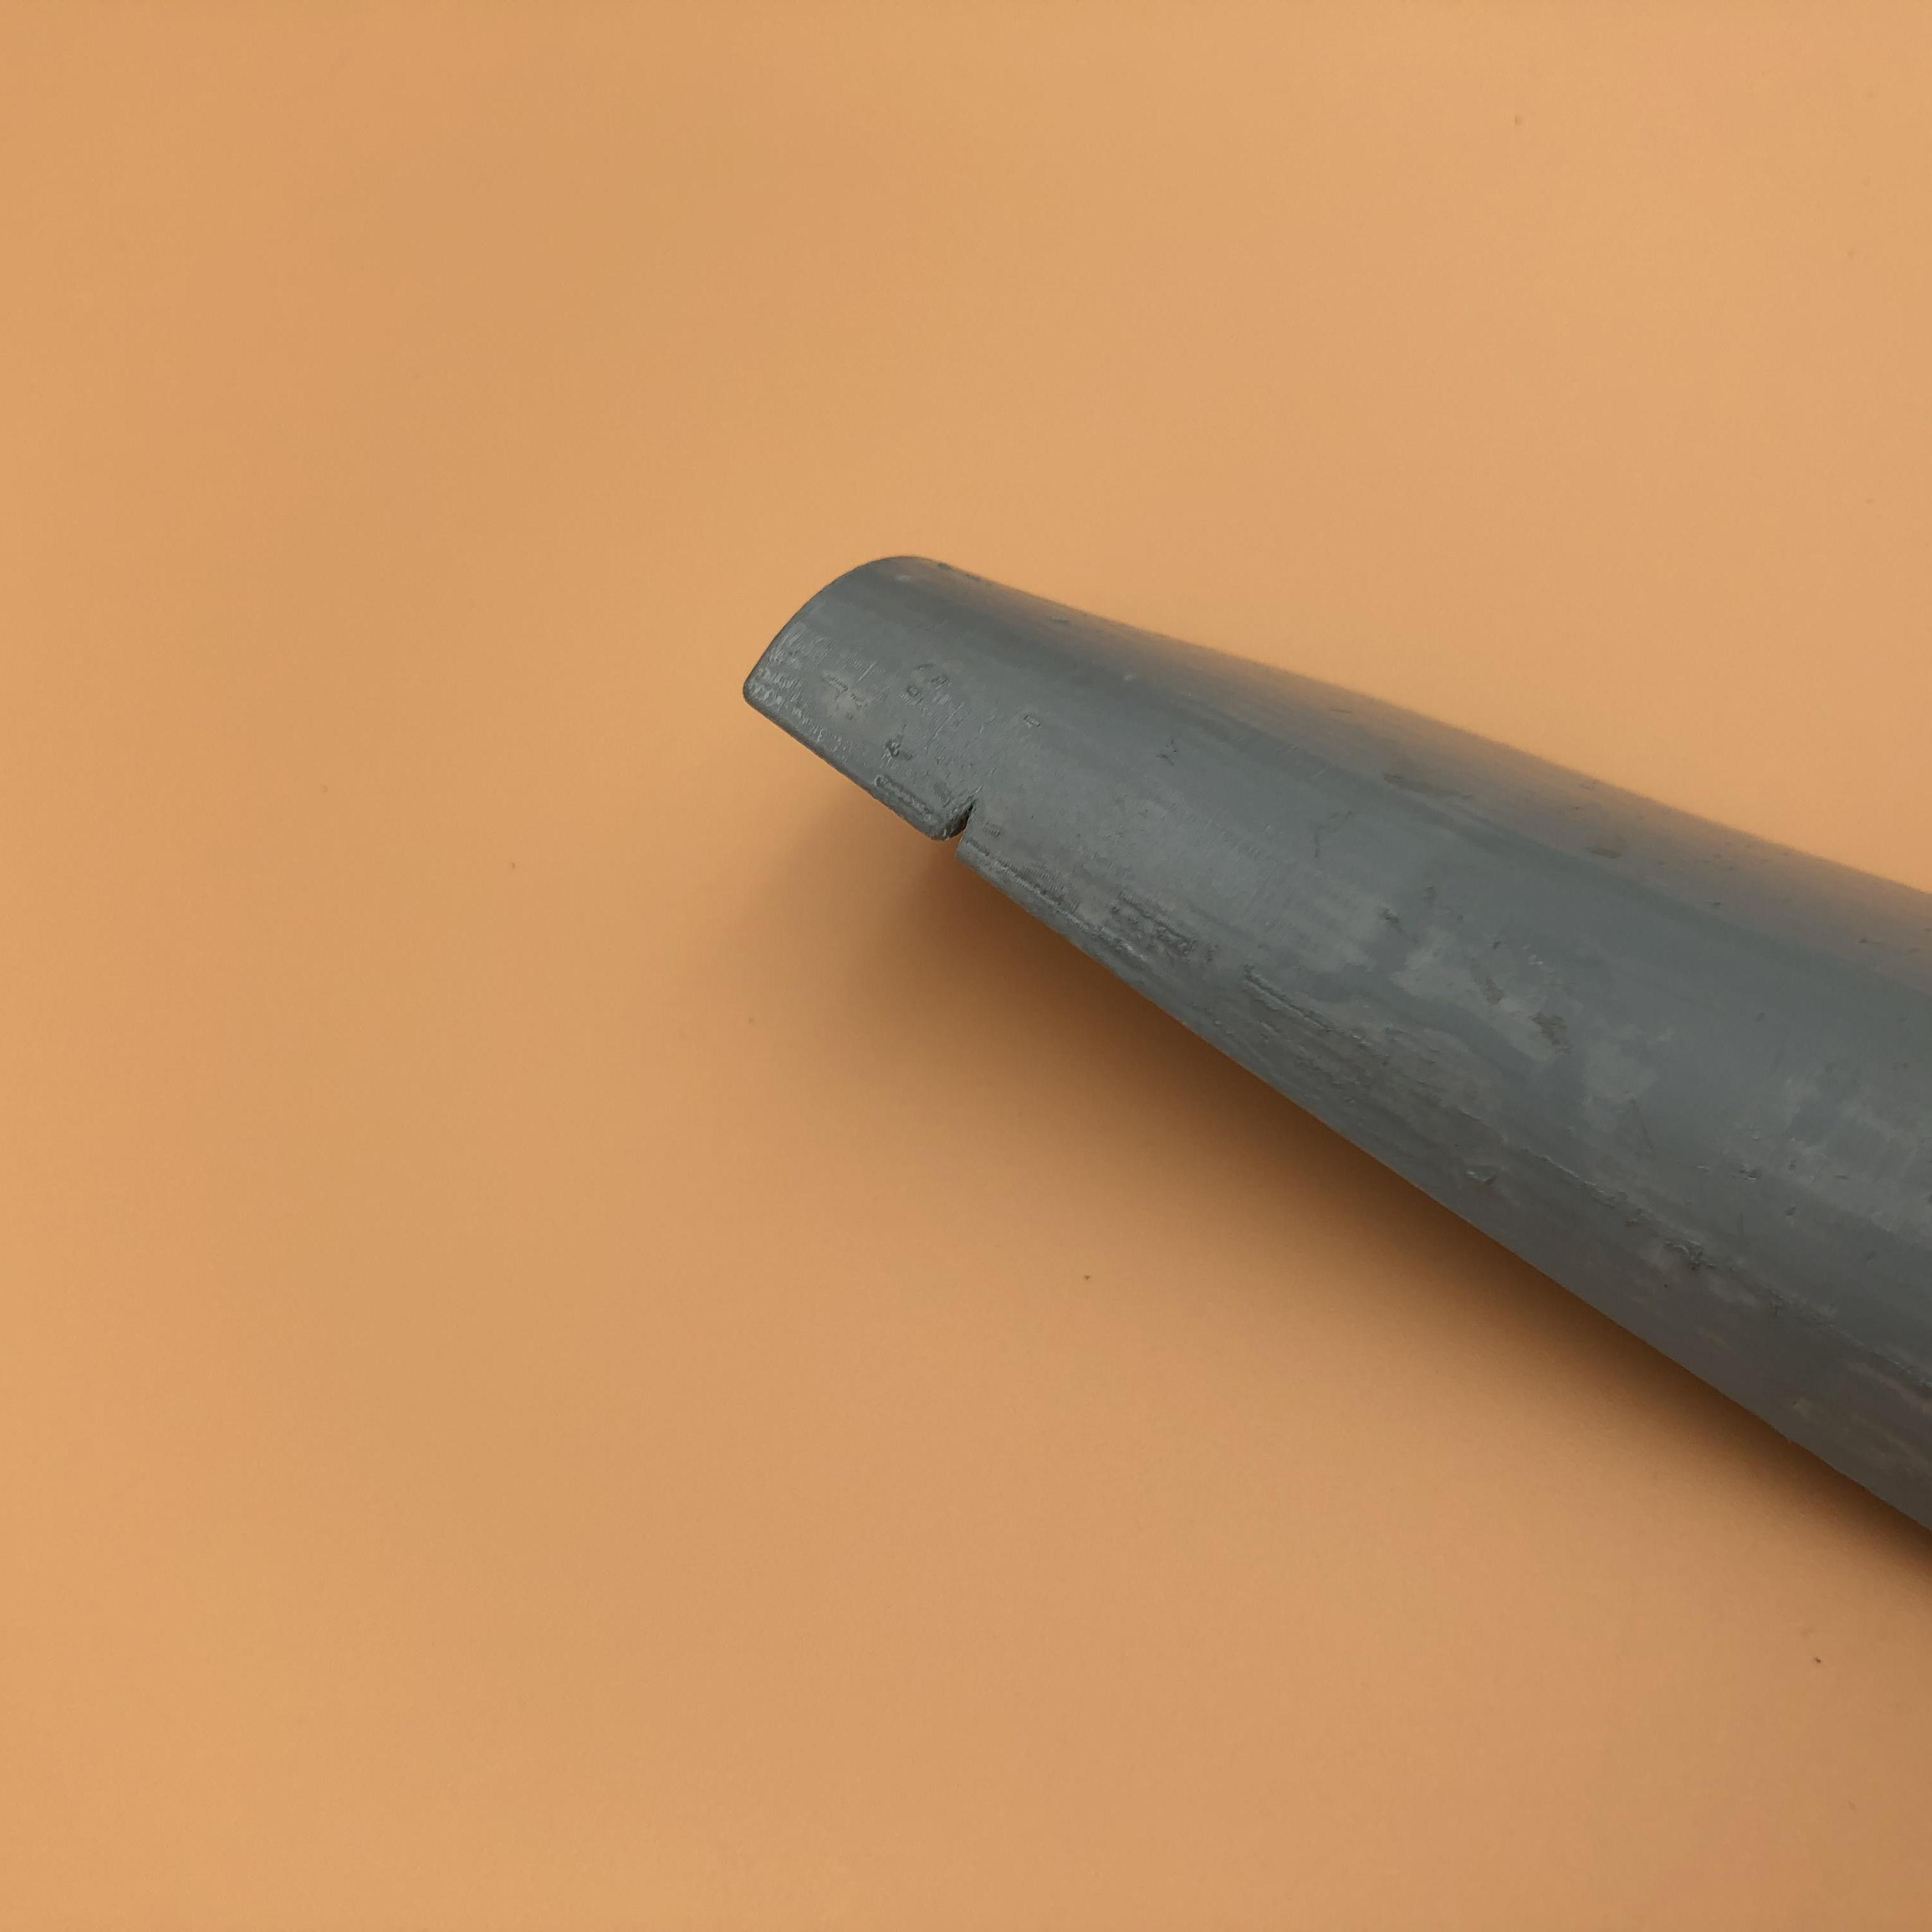groove: (929, 796, 991, 853)
